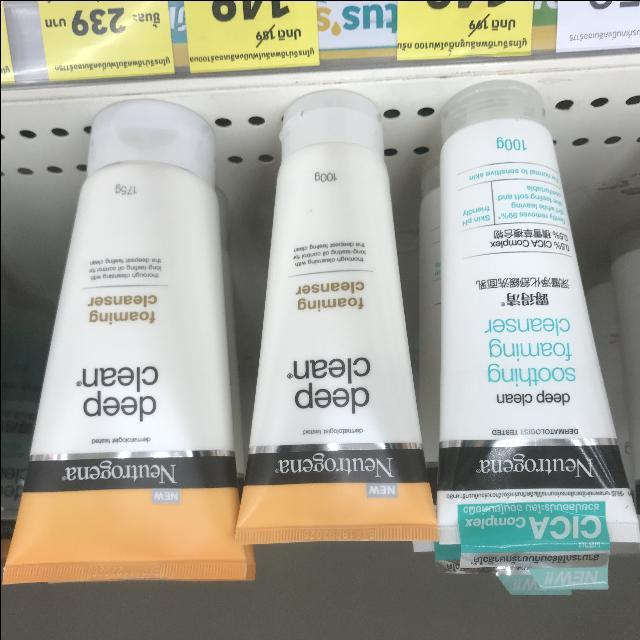Squeeze Tube: (24, 86, 250, 594), (417, 79, 636, 581), (241, 89, 435, 580)
